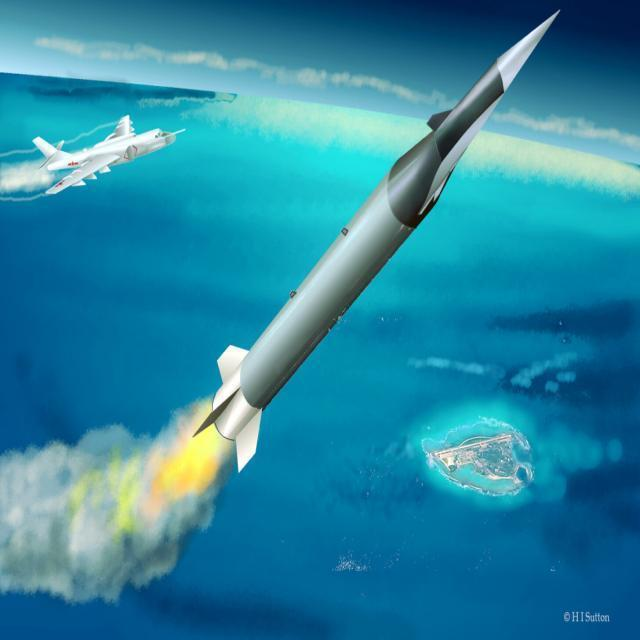Missile: (190, 2, 570, 487)
